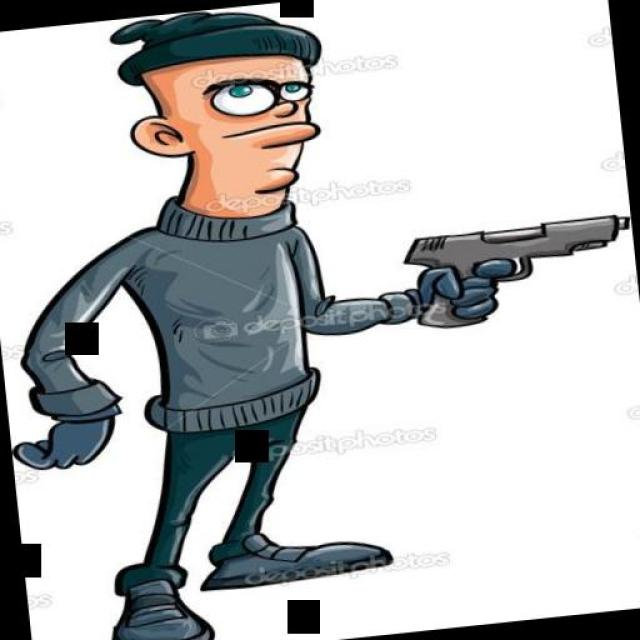gun: (391, 206, 640, 335)
